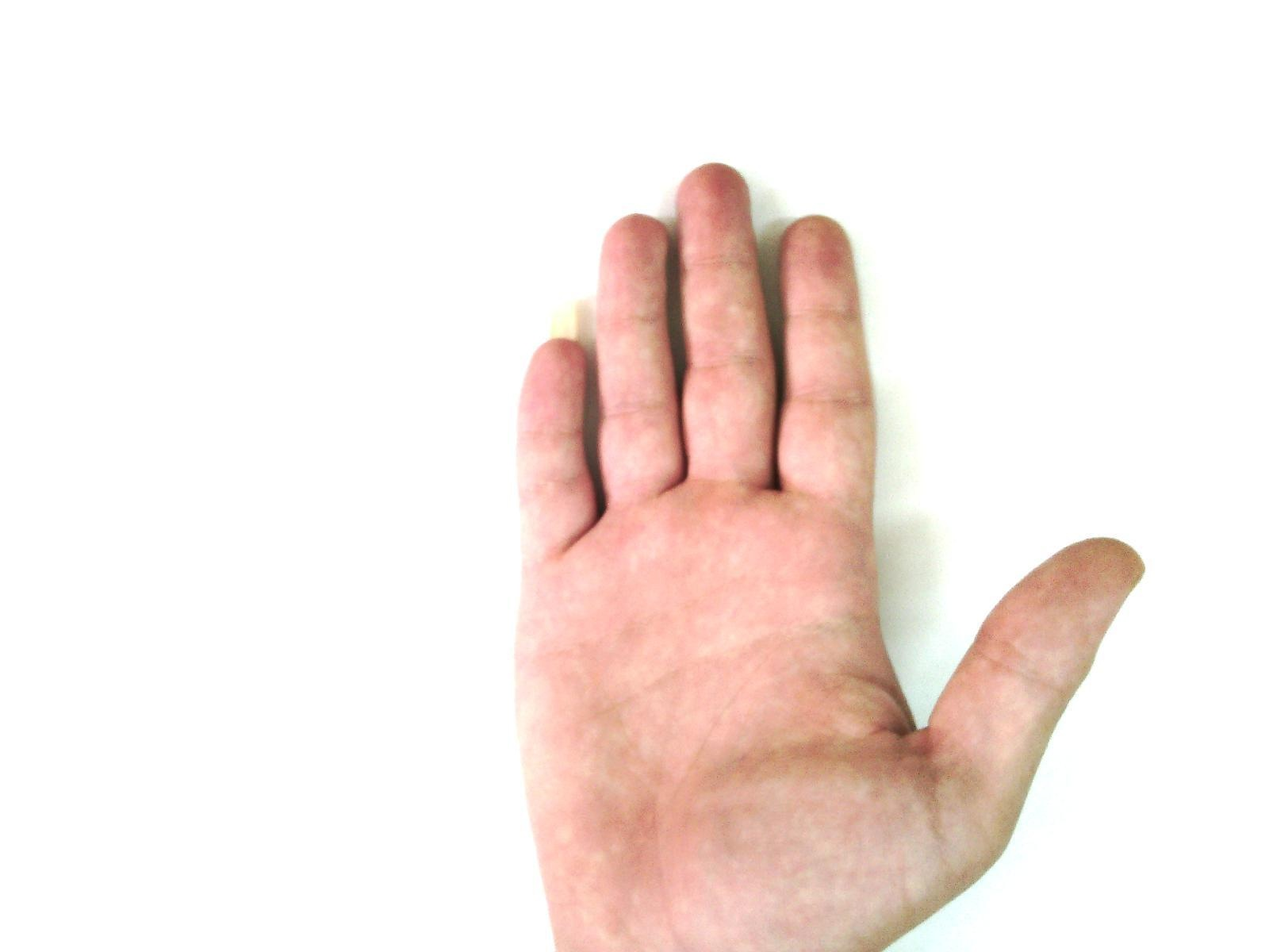open_palm: (508, 162, 1147, 951)
